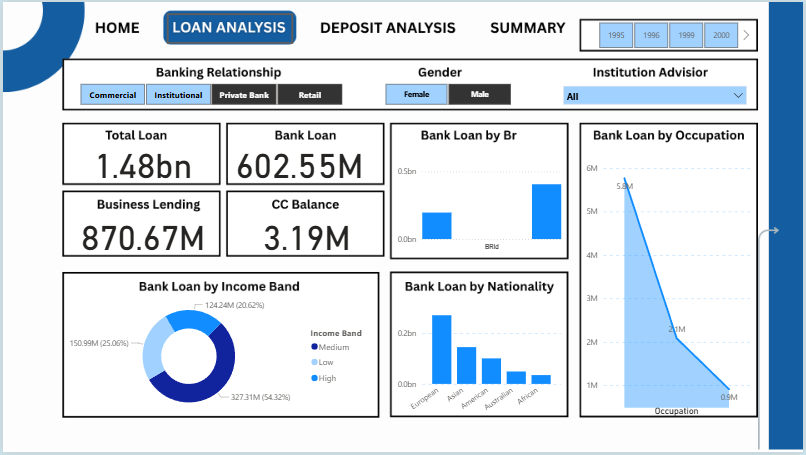

What the dashboard file says about the page in this screenshot:
{"tool":"powerbi","page":{"name":"Loan Analysis","canvas":[1280,720],"ordinal":1},"visuals":[{"type":"actionButton","box":[498.2,17.2,235.6,49.1],"z":0},{"type":"actionButton","box":[768.1,17.2,139.9,49.1],"z":1000},{"type":"actionButton","box":[138.7,17.2,85.9,49.1],"z":2000},{"type":"card","fields":{"Values":["banking data.Total Loan"]},"box":[112,208.8,224,94],"z":3000},{"type":"actionButton","box":[261.4,17.2,202.5,49.1],"z":4000},{"type":"card","fields":{"Values":["Sum(banking-clients csv.Bank Loans)"]},"box":[362.2,208.8,224,94],"z":5000},{"type":"card","fields":{"Values":["Sum(banking-clients csv.Business Lending)"]},"box":[112,323.5,224,94],"z":6000},{"type":"card","fields":{"Values":["Sum(banking-clients csv.Credit Card Balance)"]},"box":[373.3,323.5,224,94],"z":7000},{"type":"slicer","fields":{"Values":["banking-clients csv.joined year"]},"box":[927.7,26.3,272.4,53.9],"z":8000},{"type":"donutChart","fields":{"Category":["banking-clients csv.Income Band"],"Y":["Sum(banking-clients csv.Bank Loans)"]},"box":[98.2,465.9,499.1,201.9],"z":9000},{"type":"clusteredColumnChart","fields":{"Category":["banking-realtionships csv.BRId"],"Y":["Sum(banking-clients csv.Bank Loans)"]},"box":[626.3,235,272.4,167.3],"z":10000},{"type":"clusteredColumnChart","fields":{"Y":["Sum(banking-clients csv.Bank Loans)"],"Category":["banking-clients csv.Nationality"]},"box":[626.2,476.2,272.5,201.2],"z":11000},{"type":"areaChart","fields":{"Category":["banking-clients csv.Occupation"],"Y":["Sum(banking-clients csv.Bank Loans)"]},"box":[927.7,251.6,272.4,416.2],"z":12000},{"type":"slicer","fields":{"Values":["banking-realtionships csv.Banking Relationship"]},"box":[98.2,123.1,468.7,47],"z":13000},{"type":"slicer","fields":{"Values":["banking-clients csv.GenderId"]},"box":[586.2,123.1,250.2,47],"z":14000},{"type":"slicer","fields":{"Values":["banking-clients csv.IAId"]},"box":[886.2,123.1,313.8,41.5],"z":15000}]}

Visuals, with their boxes in screenshot pixels (x1, y1, x2, y2), scaled from the page's 1280x720 canvas onto the 806x455 screenshot:
actionButton: (314, 11, 462, 42)
actionButton: (484, 11, 572, 42)
actionButton: (87, 11, 141, 42)
card - banking data.Total Loan: (71, 132, 212, 191)
actionButton: (165, 11, 292, 42)
card - Sum(banking-clients csv.Bank Loans): (228, 132, 369, 191)
card - Sum(banking-clients csv.Business Lending): (71, 204, 212, 264)
card - Sum(banking-clients csv.Credit Card Balance): (235, 204, 376, 264)
slicer - banking-clients csv.joined year: (584, 17, 756, 51)
donutChart - banking-clients csv.Income Band x Sum(banking-clients csv.Bank Loans): (62, 294, 376, 422)
clusteredColumnChart - banking-realtionships csv.BRId x Sum(banking-clients csv.Bank Loans): (394, 149, 566, 254)
clusteredColumnChart - Sum(banking-clients csv.Bank Loans) x banking-clients csv.Nationality: (394, 301, 566, 428)
areaChart - banking-clients csv.Occupation x Sum(banking-clients csv.Bank Loans): (584, 159, 756, 422)
slicer - banking-realtionships csv.Banking Relationship: (62, 78, 357, 107)
slicer - banking-clients csv.GenderId: (369, 78, 527, 107)
slicer - banking-clients csv.IAId: (558, 78, 756, 104)
